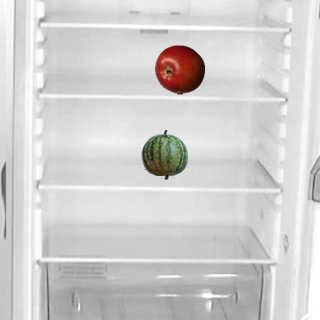Apple Braeburn: (154, 44, 204, 94)
Watermelon: (139, 129, 189, 179)
